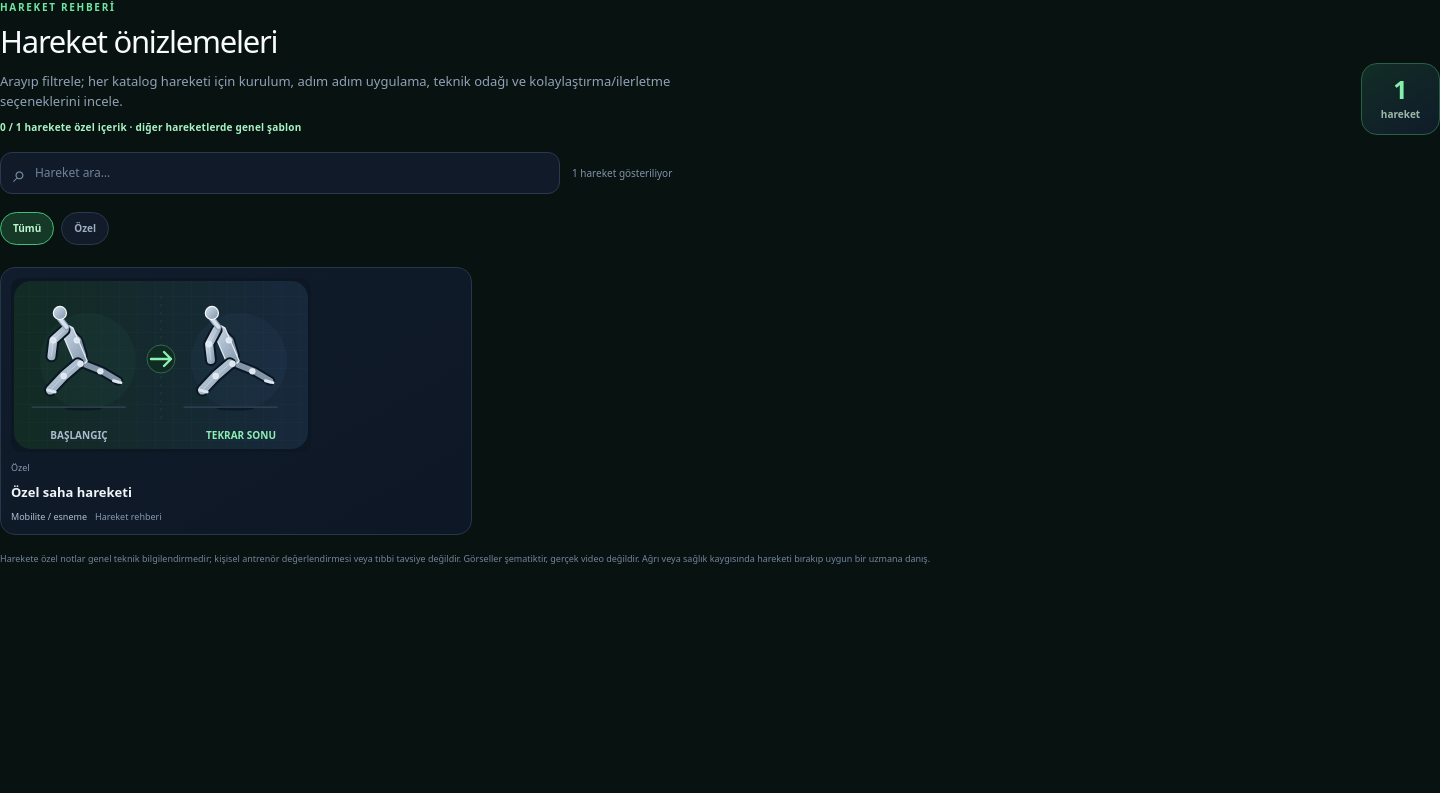
Test case: movement library › labels user-added movements as a generic template until authored guidance exists
What coordinates should you click on to do the following:
click the button "Özel saha hareketi"
I would click on:
 (236, 401)
Its box is [0,267,472,535].
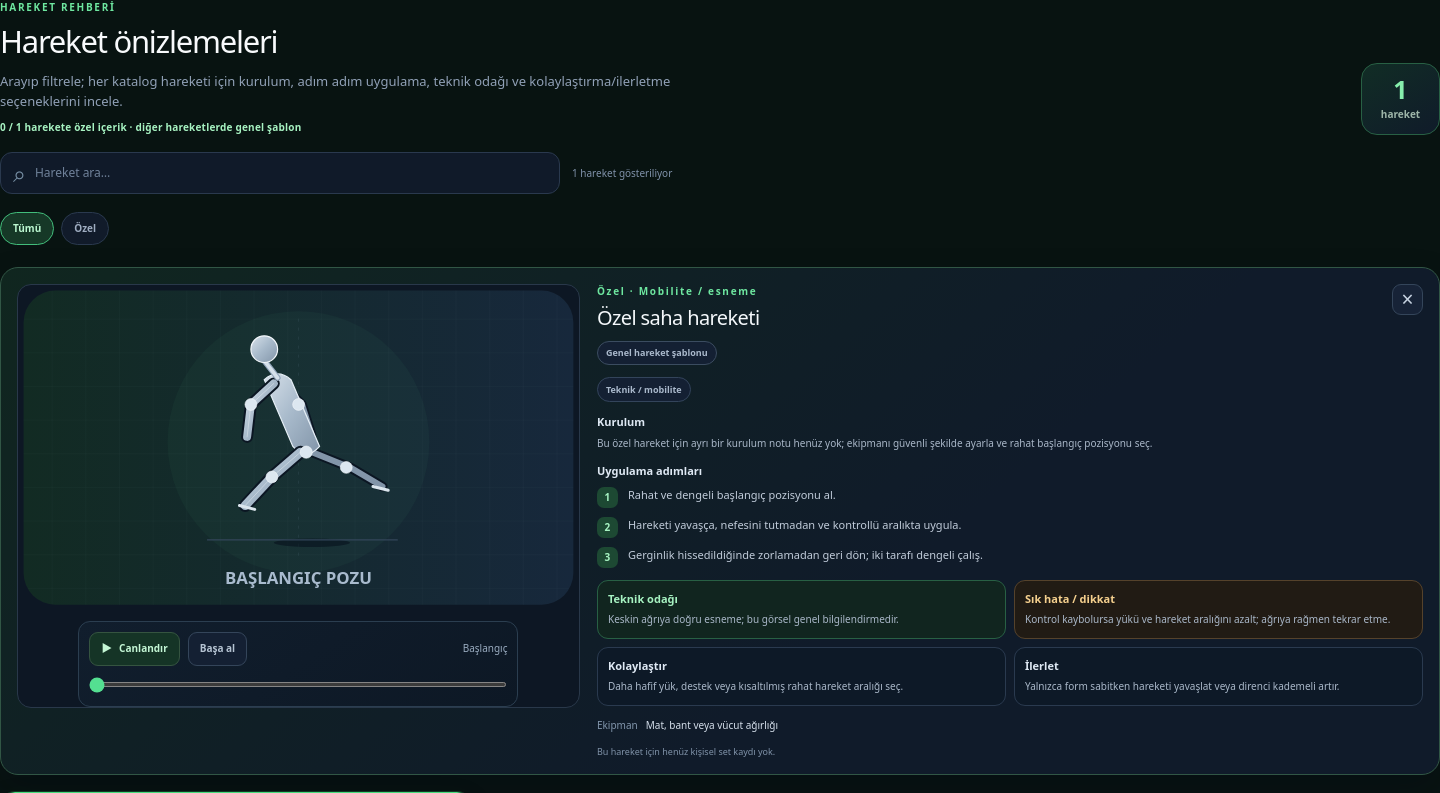
Check: the text "Genel hareket şablonu" is shown, box [597,341,716,365]
Check: the text "ayrı bir kurulum notu henüz yok" is shown, box [597,436,1152,450]
